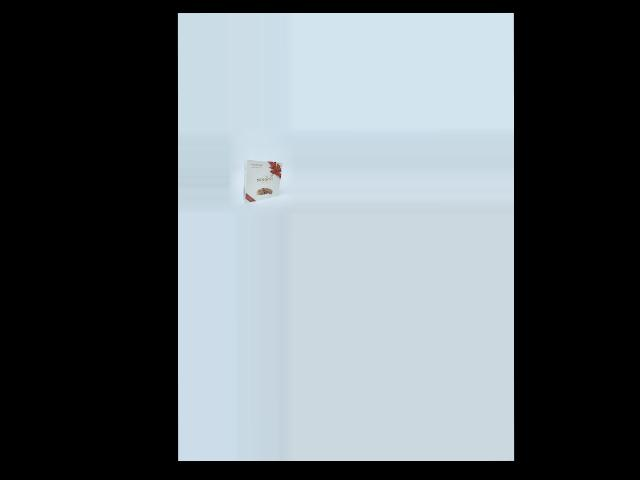chocolate: (234, 160, 283, 205)
